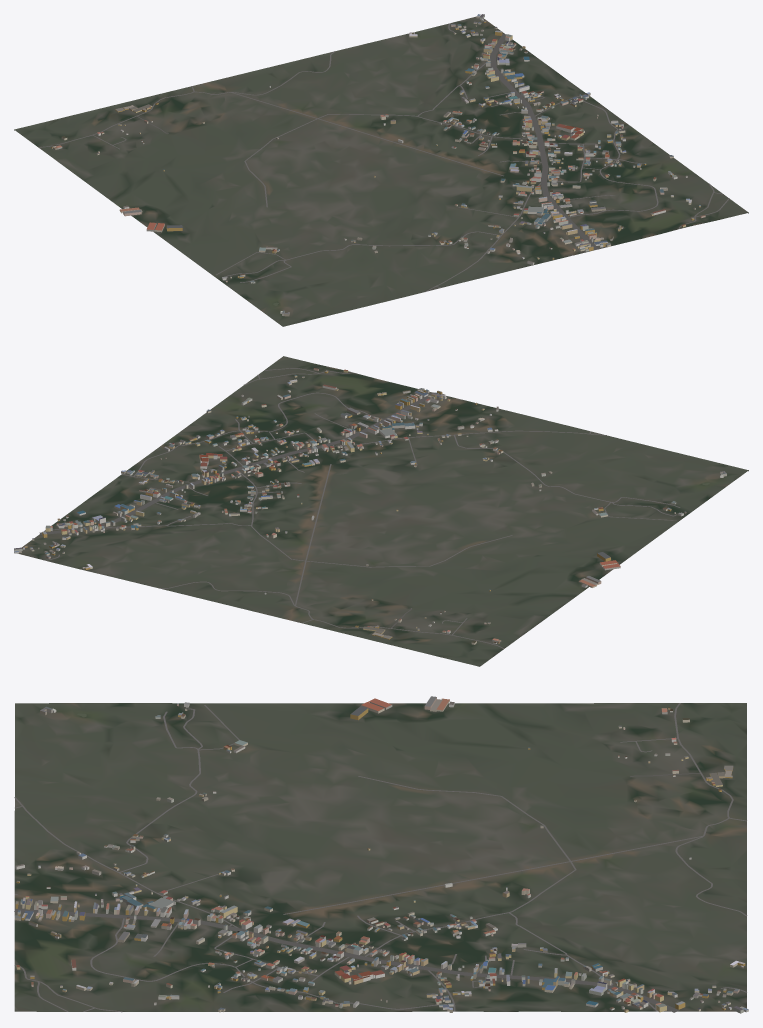
The picture shows the model from 3 angles, top to bottom: view 1: azimuth 30°, elevation 25°; view 2: azimuth 150°, elevation 25°; view 3: azimuth 270°, elevation 25°; orthographic projection. The views are drawn at different scales.
Parts seen in each view (by area): view 1: ground, buildings, roads; view 2: ground, buildings, roads; view 3: ground, buildings, roads.
Part boxes in pixels (box(x1,y1,x2,y2)): ground: box(14, 16, 748, 326); buildings: box(51, 14, 705, 316); roads: box(38, 23, 729, 291); ground: box(17, 356, 748, 666); buildings: box(14, 368, 726, 644); roads: box(39, 368, 680, 648); ground: box(14, 703, 746, 1011); buildings: box(14, 696, 748, 1013); roads: box(14, 703, 747, 1012).
Size of the model in its own units: 1425 by 18.75 by 1407.
